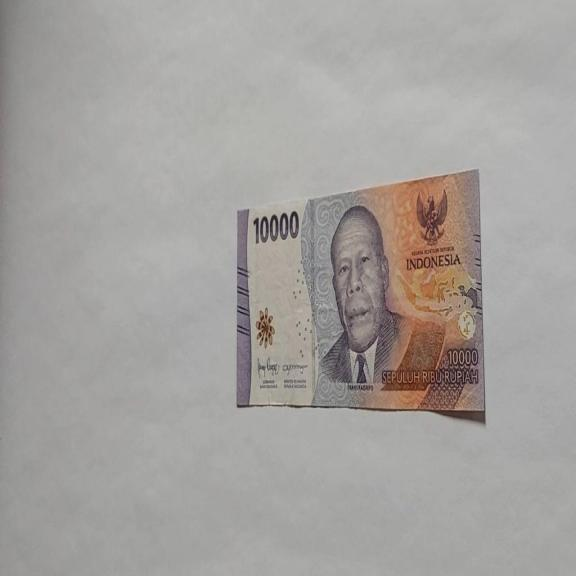Kertas: (235, 167, 485, 418), (252, 208, 300, 245)
